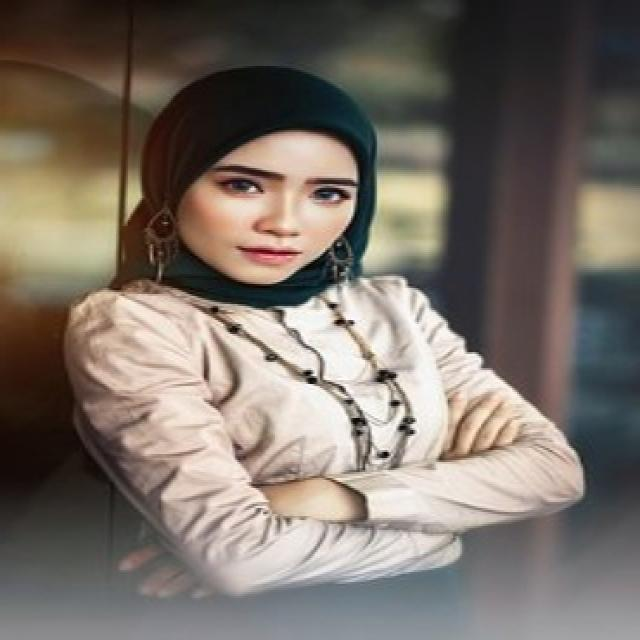adult: (56, 66, 589, 640)
